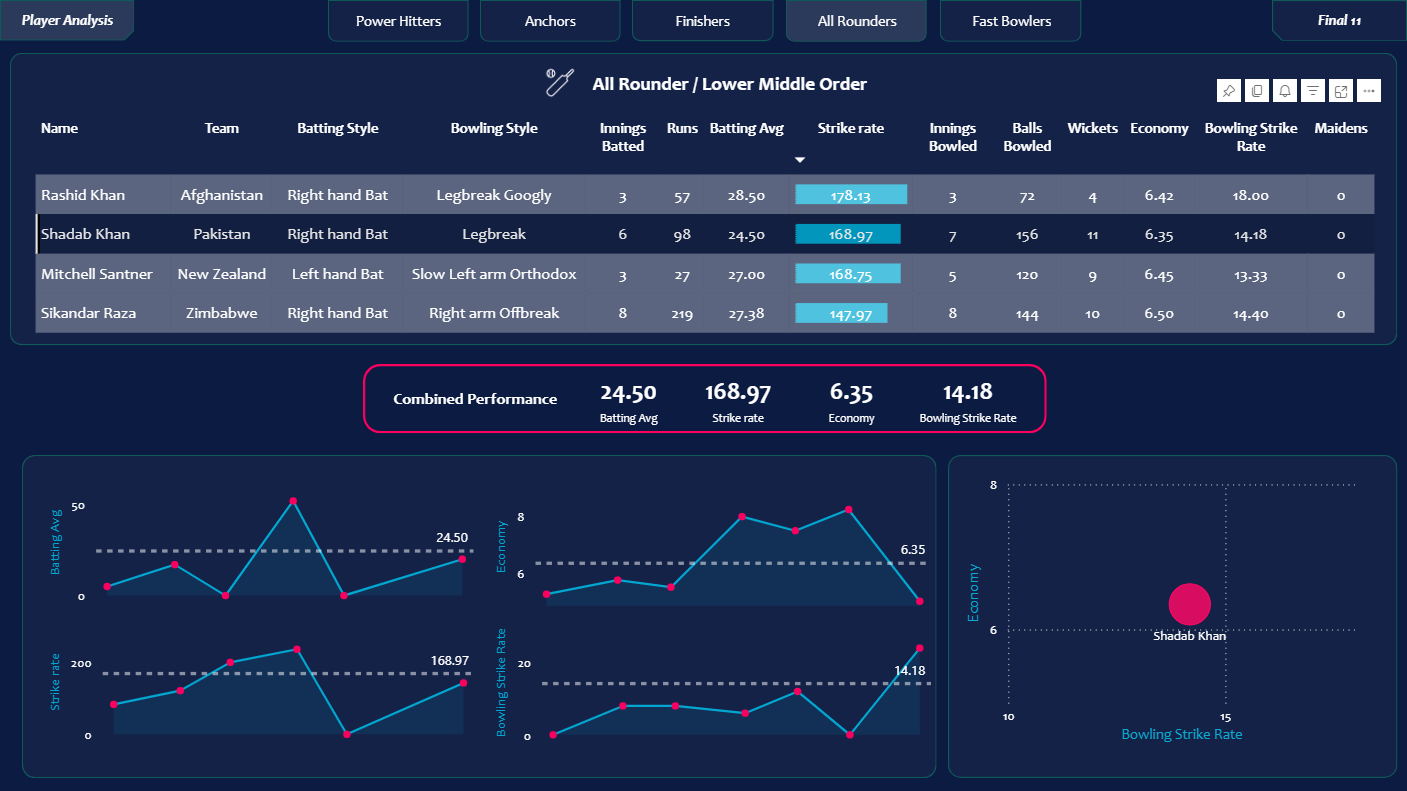

The page's visual inventory and layout, read from the dashboard file:
{"tool":"powerbi","page":{"name":"All Rounders / Lower Middle Order","canvas":[1280,720],"ordinal":3},"visuals":[{"type":"tableEx","fields":{"Values":["dim_player.name","dim_player.team","dim_player.Batting Style","dim_player.Bowling Style","Key_Measures.Total Matches","Key_Measures.Total Runs","Key_Measures.Total Innings Bowled","Key_Measures.Strike Rate","Key_Measures.Bat Avg","Key_Measures.Wickets","Key_Measures.Economy","Key_Measures.Balls Bowled"]},"box":[0,108,1250.8,181.9],"z":0},{"type":"slicer","fields":{"Values":["dim_match_summary.Stage"]},"box":[1095.2,6.8,155.6,86.6],"z":1},{"type":"scatterChart","fields":{"Category":["dim_player.name"],"X":["Key_Measures.Bowling Strike Rate"],"Series":["dim_player.name"],"Y":["Key_Measures.Economy"],"Size":["Key_Measures.Total Runs"]},"box":[20.4,359.9,585.5,359.9],"z":2},{"type":"card","fields":{"Values":["Key_Measures.Economy"]},"box":[1009.6,557.3,200.4,138.1],"z":3},{"type":"card","fields":{"Values":["Key_Measures.Bowling Strike Rate"]},"box":[701.3,557.3,168.3,138.1],"z":4},{"type":"card","fields":{"Values":["Key_Measures.Strike rate"]},"box":[994,371.6,200.4,137.1],"z":5},{"type":"card","fields":{"Values":["Key_Measures.Bat Avg"]},"box":[699.3,371.6,173.1,152.7],"z":6}]}

Visuals, with their boxes in screenshot pixels (x1, y1, x2, y2), scaled from the page's 1280x720 canvas onto the 1407x791 screenshot:
tableEx - dim_player.name x dim_player.team: left=0, top=119, right=1375, bottom=318
slicer - dim_match_summary.Stage: left=1204, top=7, right=1375, bottom=103
scatterChart - dim_player.name x Key_Measures.Bowling Strike Rate: left=22, top=395, right=666, bottom=790
card - Key_Measures.Economy: left=1110, top=612, right=1330, bottom=764
card - Key_Measures.Bowling Strike Rate: left=771, top=612, right=956, bottom=764
card - Key_Measures.Strike rate: left=1093, top=408, right=1313, bottom=559
card - Key_Measures.Bat Avg: left=769, top=408, right=959, bottom=576
